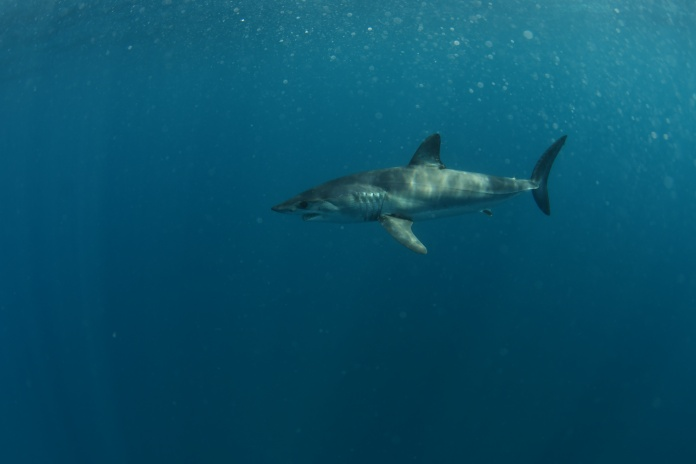Mako: (264, 131, 575, 260)
